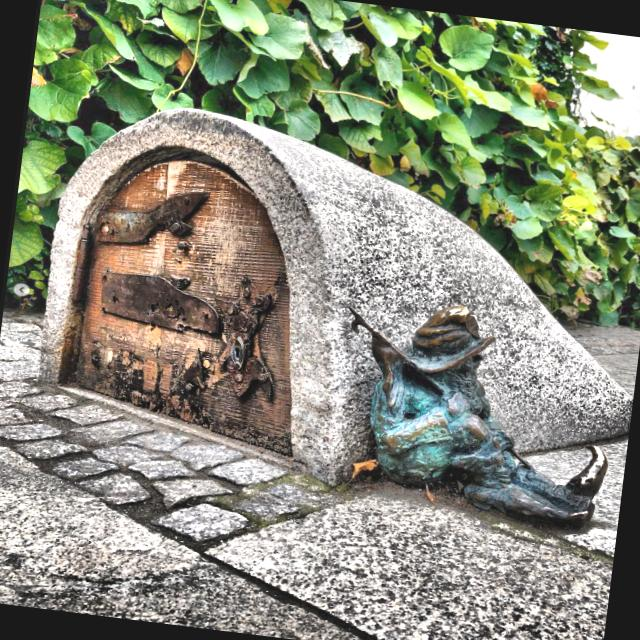Spioch: (351, 305, 604, 526)
